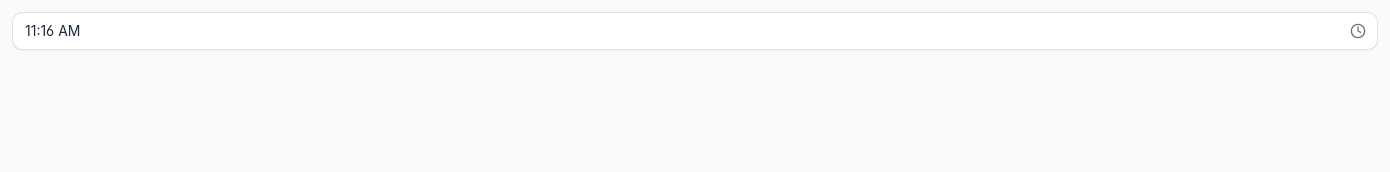
Test: TimePicker — formatting, sanitization, and UI › blocks arbitrary non-time characters on input change
Replace the text in the field with "11:16 amxyz123": (695, 31) x1=12 y1=12 x2=1378 y2=50
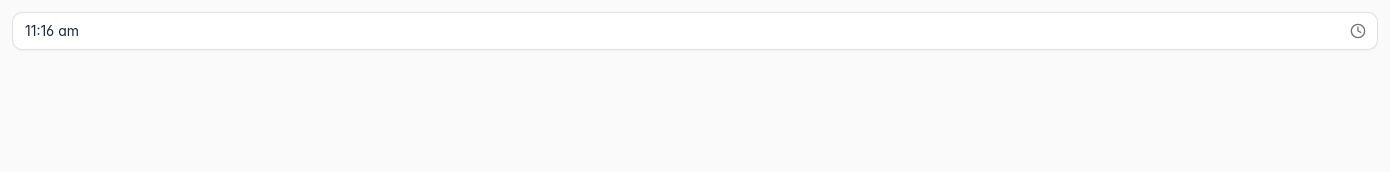
Result: the field holds "11:16 am" at x1=12 y1=12 x2=1378 y2=50
